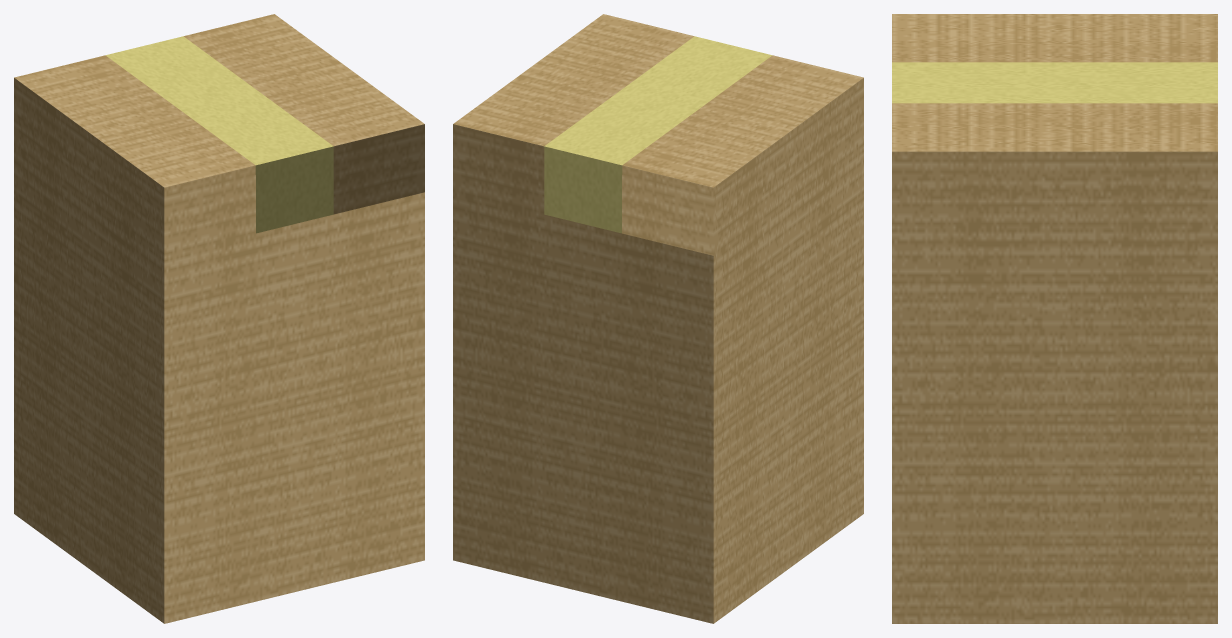
File: CardboardBox.obj
3 views of the same model, side by side, from view 1: azimuth 30°, elevation 25°; view 2: azimuth 150°, elevation 25°; view 3: azimuth 270°, elevation 25° (orthographic). The views are drawn at different scales.
Visible parts, largest first — view 1: mesh01; view 2: mesh01; view 3: mesh01.
Boxes of the visible parts, left/top/right/bottom form: mesh01: left=14, top=14, right=424, bottom=623; mesh01: left=453, top=14, right=863, bottom=623; mesh01: left=892, top=14, right=1217, bottom=623.
Bounding box in the file's own units: 5 × 8 × 5.
2 materials, 2 textured.
